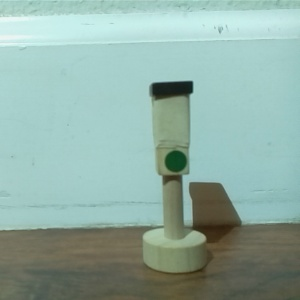traffic light green: (138, 79, 210, 273)
